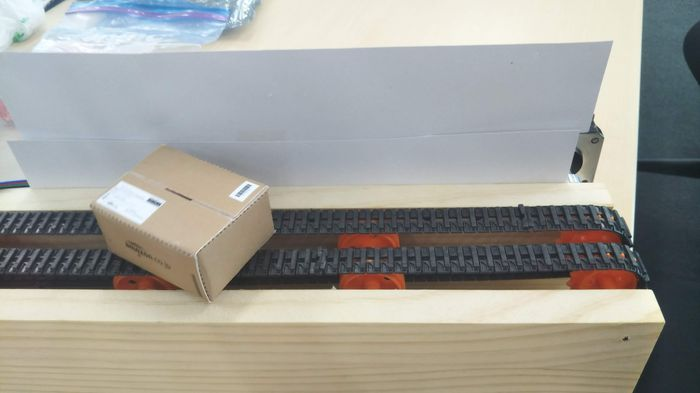box1: (88, 143, 275, 303)
